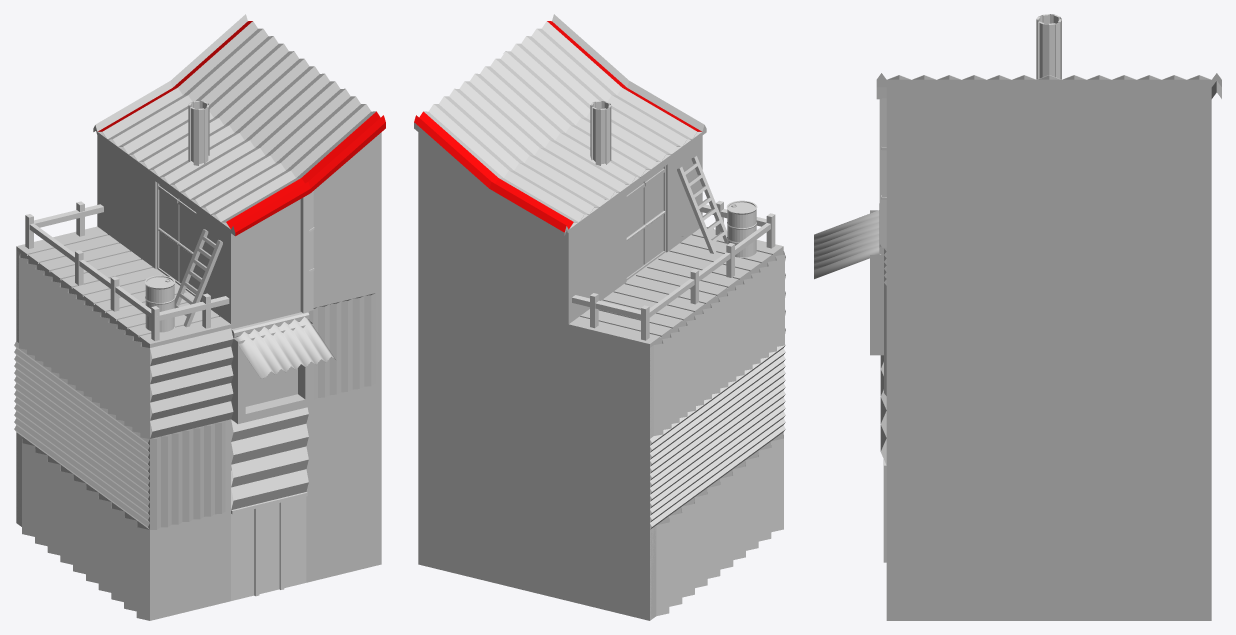
Rendered from RBGTEST23fbx.fbx.
3 renders of one model, left to right at view 1: azimuth 30°, elevation 25°; view 2: azimuth 150°, elevation 25°; view 3: azimuth 270°, elevation 25°, orthographic. The views are drawn at different scales.
Parts seen in each view (by area): view 1: Cube.011, Cube.012, Cube.015, Cube.003, Cube.005, Cube.004, Cube.006, Cube.020, Cube.013, Cube.021, Cube.041, Cube.018 (+10 smaller); view 2: Cube.011, Cube.012, Cube.003, Cube.005, Cube.004, Cube.013, Cube.014, Cube.017, GRINDABLE, Ladder.002, Oil Barrel.002, Cylinder; view 3: Cube.011, Cube.008, Cylinder, Cube.007, Cube.016, Cube.012, Cube.018.
Boxes of the visible parts, <box> form: Cube.011: <box>16,14,381,620</box>; Cube.012: <box>98,21,375,222</box>; Cube.015: <box>231,132,381,328</box>; Cube.003: <box>16,250,149,438</box>; Cube.005: <box>16,432,149,620</box>; Cube.004: <box>14,341,149,529</box>; Cube.006: <box>150,328,233,438</box>; Cube.020: <box>150,419,230,529</box>; Cube.013: <box>97,135,230,323</box>; Cube.021: <box>231,492,307,600</box>; Cube.041: <box>306,382,381,491</box>; Cube.018: <box>231,407,308,509</box>; Cube.011: <box>414,14,783,620</box>; Cube.012: <box>423,21,701,222</box>; Cube.003: <box>650,251,784,438</box>; Cube.005: <box>650,435,783,620</box>; Cube.004: <box>650,344,785,529</box>; Cube.013: <box>568,135,702,323</box>; Cube.014: <box>625,160,669,282</box>; Cube.017: <box>572,200,775,340</box>; GRINDABLE: <box>414,21,701,232</box>; Ladder.002: <box>677,155,727,253</box>; Oil Barrel.002: <box>726,200,757,257</box>; Cylinder: <box>590,101,611,165</box>; Cube.011: <box>876,73,1221,620</box>; Cube.008: <box>814,210,880,279</box>; Cylinder: <box>1036,14,1061,79</box>; Cube.007: <box>870,203,883,355</box>; Cube.016: <box>879,98,886,247</box>; Cube.012: <box>887,75,1211,79</box>; Cube.018: <box>880,355,886,464</box>.
Size of the model in its own units: 1014 by 1234 by 1830.
